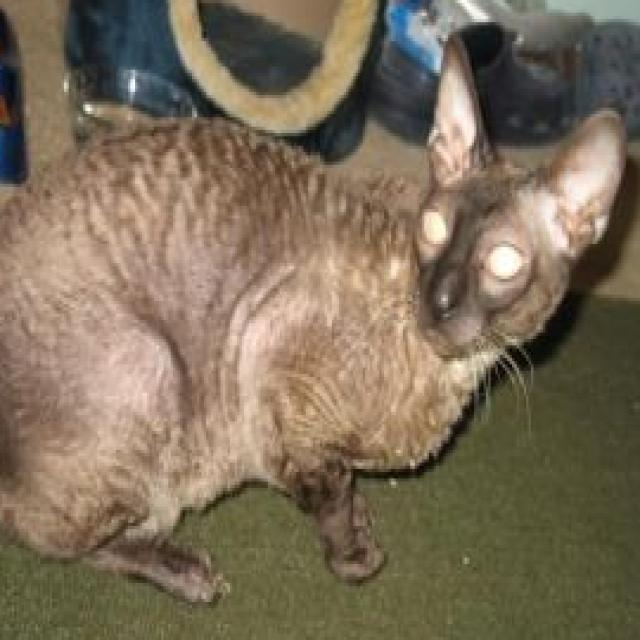Cornish Rex: (0, 26, 633, 608)
